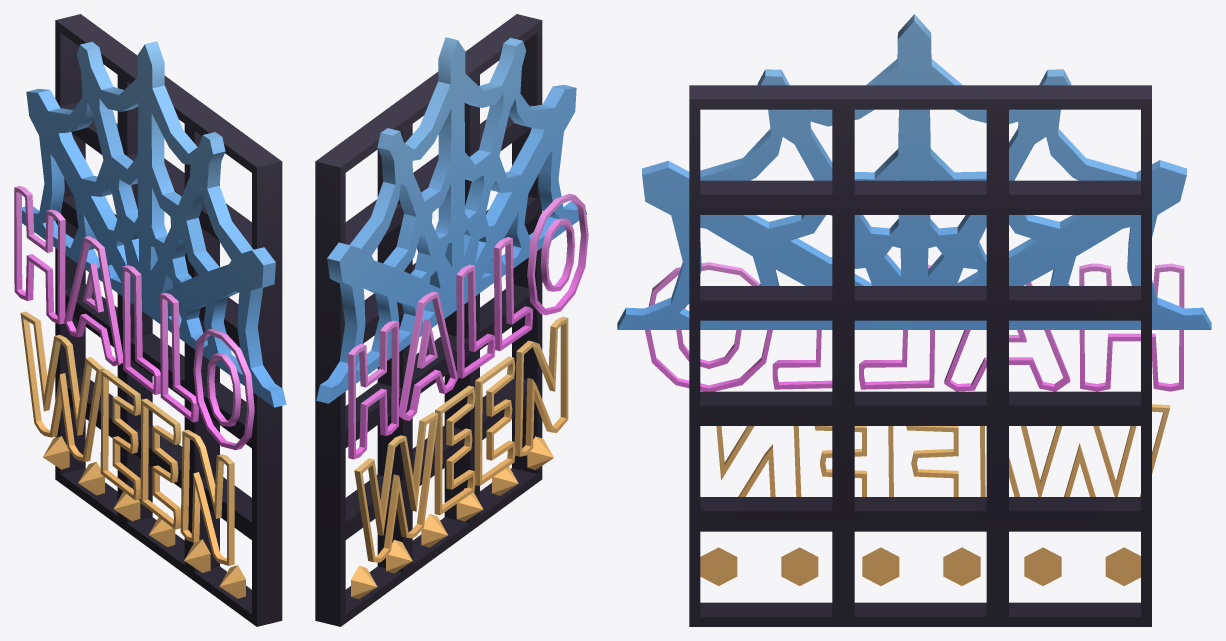
Rendered from my_halloween_01_p_wall_acc_01.glb.
3 renders of one model, left to right at view 1: azimuth 30°, elevation 25°; view 2: azimuth 150°, elevation 25°; view 3: azimuth 270°, elevation 25°, orthographic. The views are drawn at different scales.
Parts seen in each view (by area): view 1: my_halloween_01_p_wall_acc_01; view 2: my_halloween_01_p_wall_acc_01; view 3: my_halloween_01_p_wall_acc_01.
Boxes of the visible parts, <box> form: my_halloween_01_p_wall_acc_01: <box>14,14,286,626</box>; my_halloween_01_p_wall_acc_01: <box>315,14,588,626</box>; my_halloween_01_p_wall_acc_01: <box>617,14,1211,626</box>.
Size of the model in its own units: 0.00124 by 0.0116 by 0.0106.
2 materials, 2 textured.
